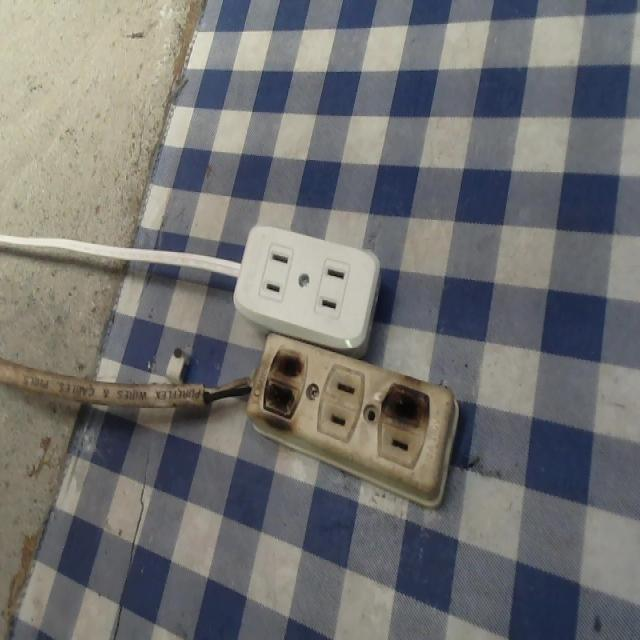-: (258, 341, 307, 424), (381, 374, 439, 429)
